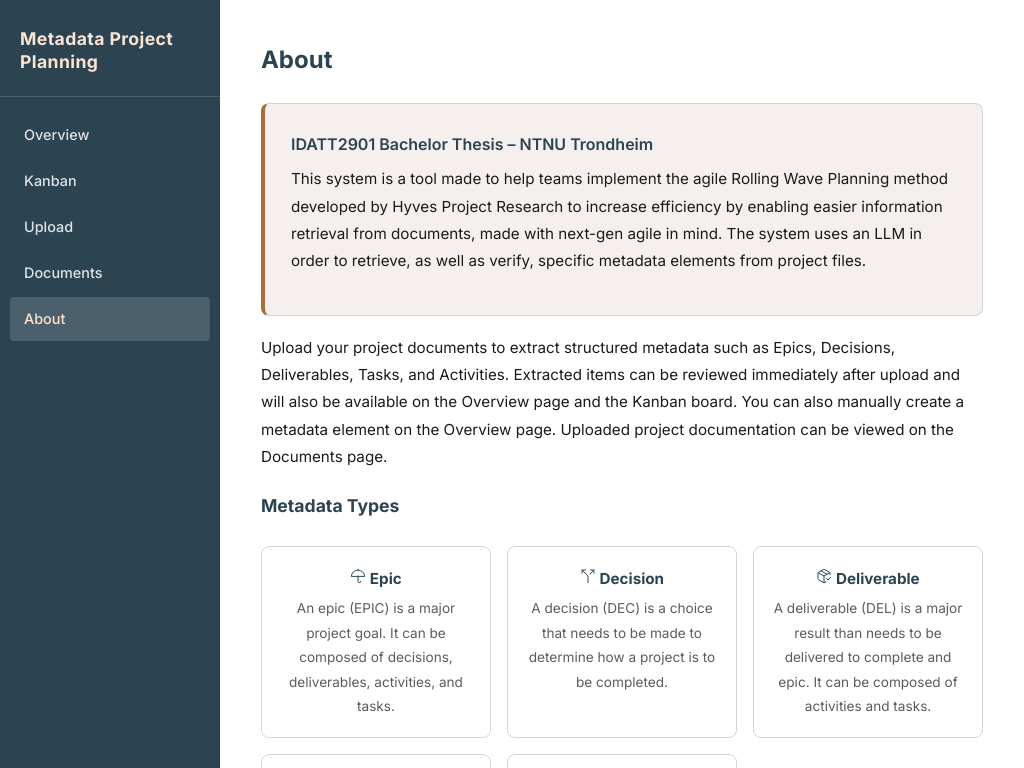
Test: App Integration Tests › navbar is present on all pages
This screenshot has width=1024, height=768.
Expected: the navigation bar named "Main navigation" is shown, [0, 0, 220, 767]
Step 1. Click the link with aria-label "View all extracted metadata" → click(57, 135), box [24, 126, 89, 143]
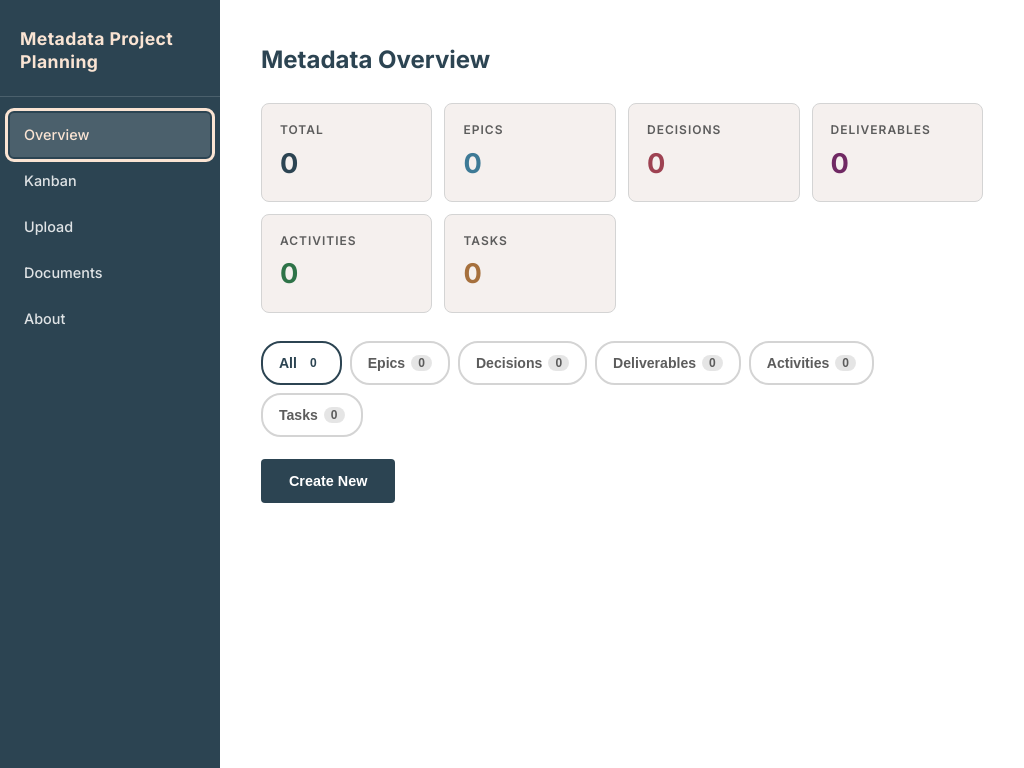
Expected: the navigation bar named "Main navigation" is shown, [0, 0, 220, 767]
Expected: the heading "Metadata Overview" is shown, [261, 45, 490, 74]
Step 2. Click the link with aria-label "Manage items on the board" → click(50, 181), box [24, 172, 77, 189]
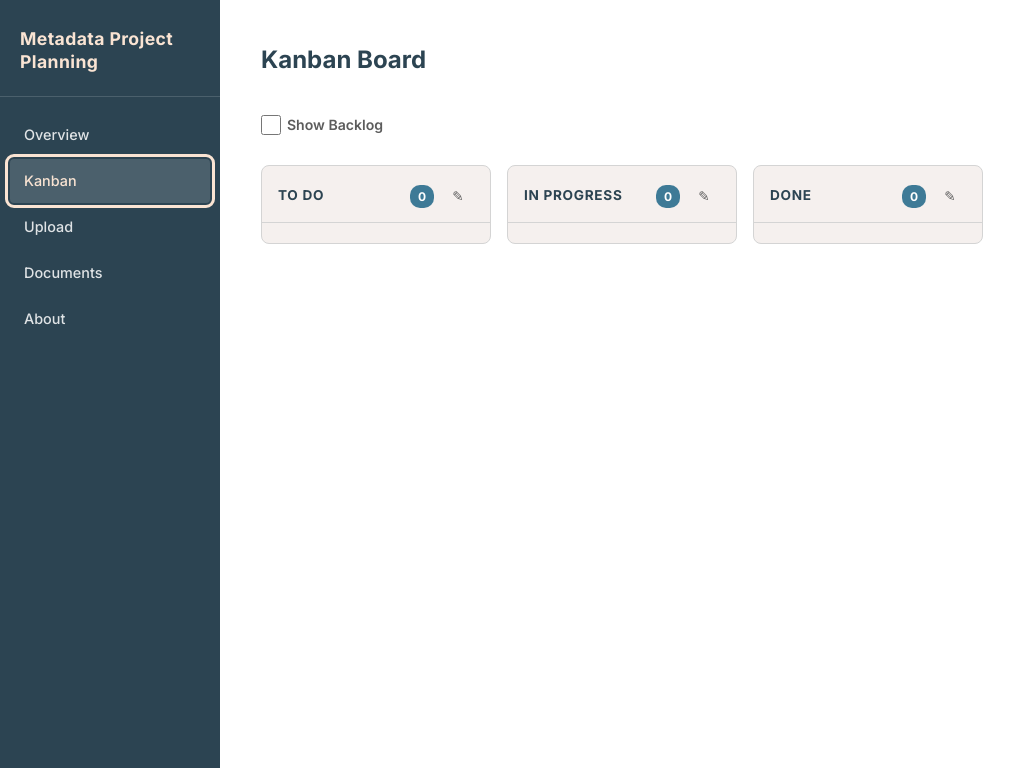
Expected: the navigation bar named "Main navigation" is shown, [0, 0, 220, 767]
Expected: the heading "Kanban Board" is shown, [261, 45, 426, 74]
Step 3. Click the link with aria-label "Browse uploaded documents" → click(63, 273), box [24, 264, 102, 281]
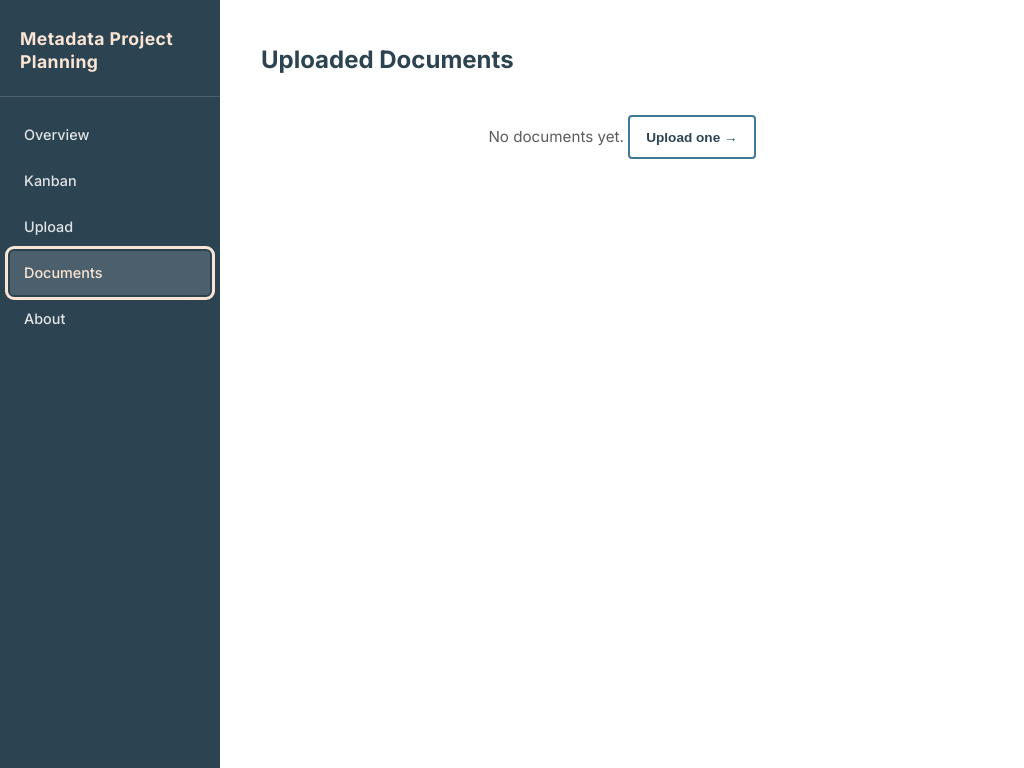
Expected: the navigation bar named "Main navigation" is shown, [0, 0, 220, 767]
Expected: the heading "Uploaded Documents" is shown, [261, 45, 514, 74]
Step 4. Click the link with aria-label "Upload a new document" → click(49, 227), box [24, 218, 73, 235]
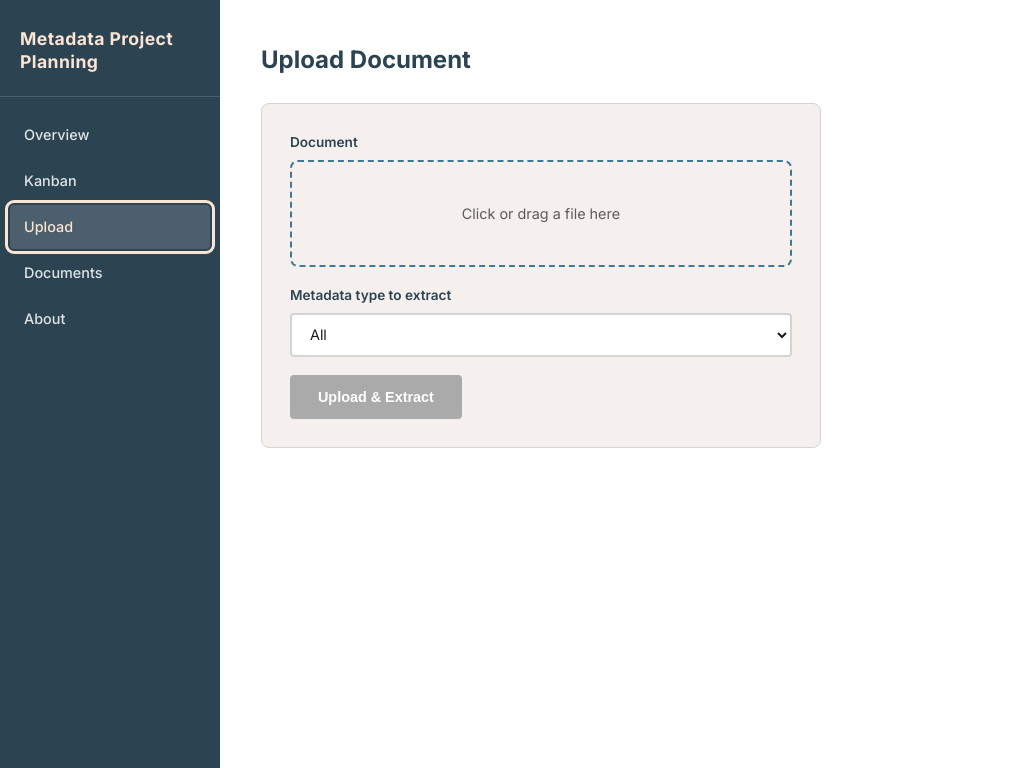
Expected: the navigation bar named "Main navigation" is shown, [0, 0, 220, 767]
Expected: the heading "Upload Document" is shown, [261, 45, 471, 74]
Step 5. Click the link with aria-label "Learn about this tool" → click(45, 319), box [24, 310, 65, 327]
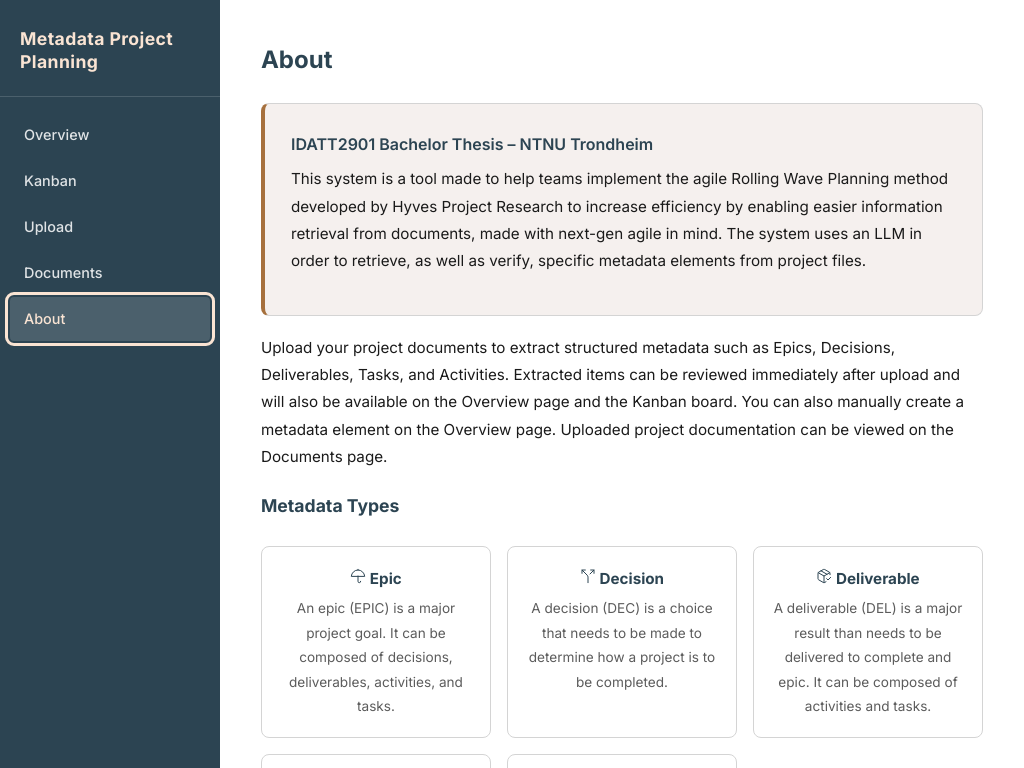
Expected: the heading "About" is shown, [261, 45, 332, 74]
